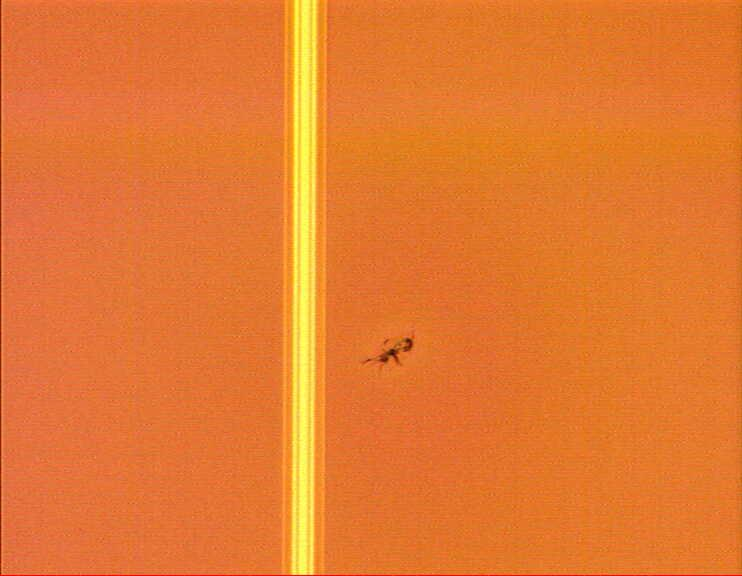PIQ PARTICLE: (361, 328, 421, 374)
